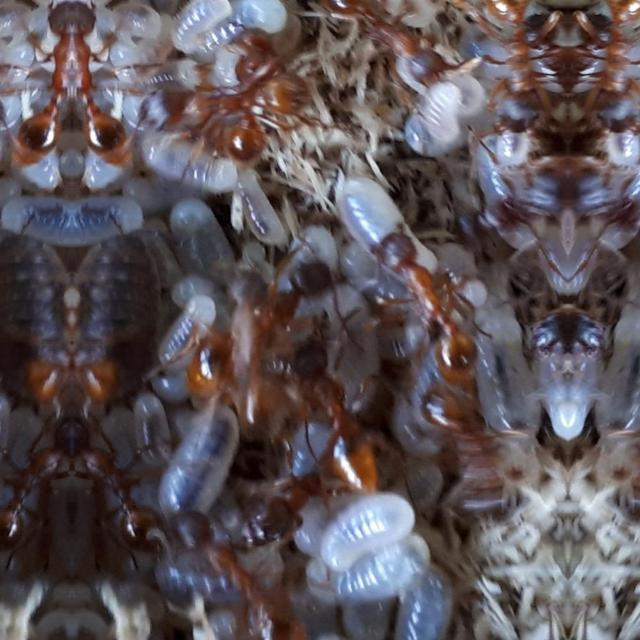Myrmica: (156, 242, 348, 398), (368, 202, 484, 394), (176, 498, 330, 632), (398, 376, 524, 526), (299, 308, 393, 498), (70, 0, 152, 158), (320, 0, 436, 102), (486, 0, 566, 142), (0, 0, 70, 158), (568, 0, 640, 142), (70, 432, 156, 540), (218, 35, 282, 179), (188, 60, 294, 132), (0, 432, 70, 540), (610, 376, 640, 524)
